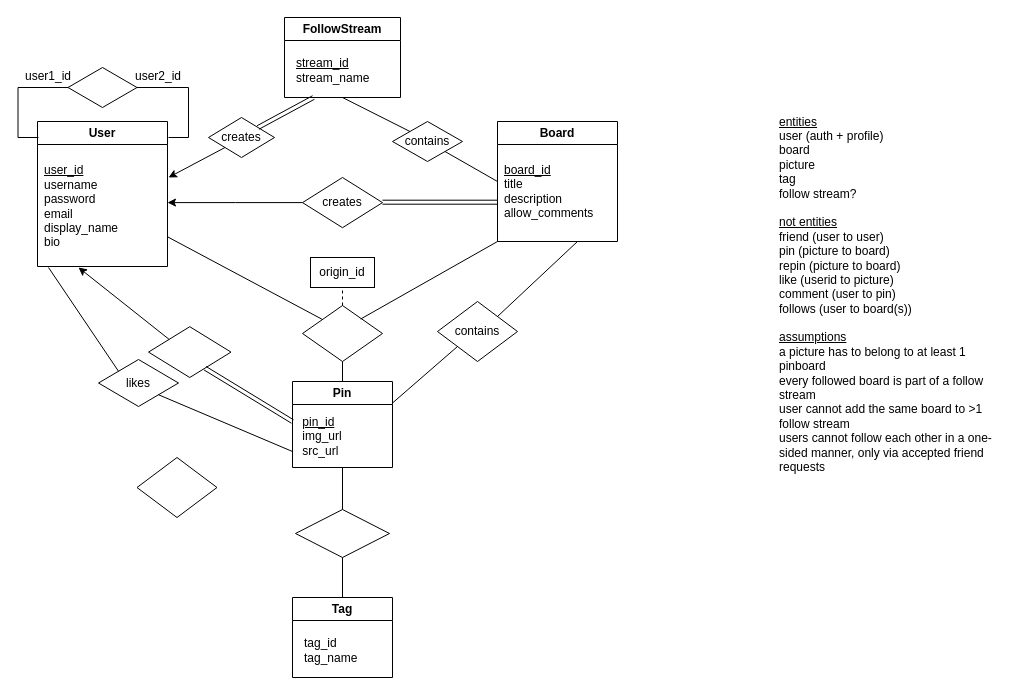
Image size: 1024x695. Some labels were removed from this diagram. Each missing label, with the centre of its shape:
"comments" belongs at (x=176, y=487).
"friend" belongs at (x=102, y=87).
"img_tags" belongs at (x=342, y=533).
"repins" belongs at (x=342, y=333).
"uploads" belongs at (x=189, y=352).
